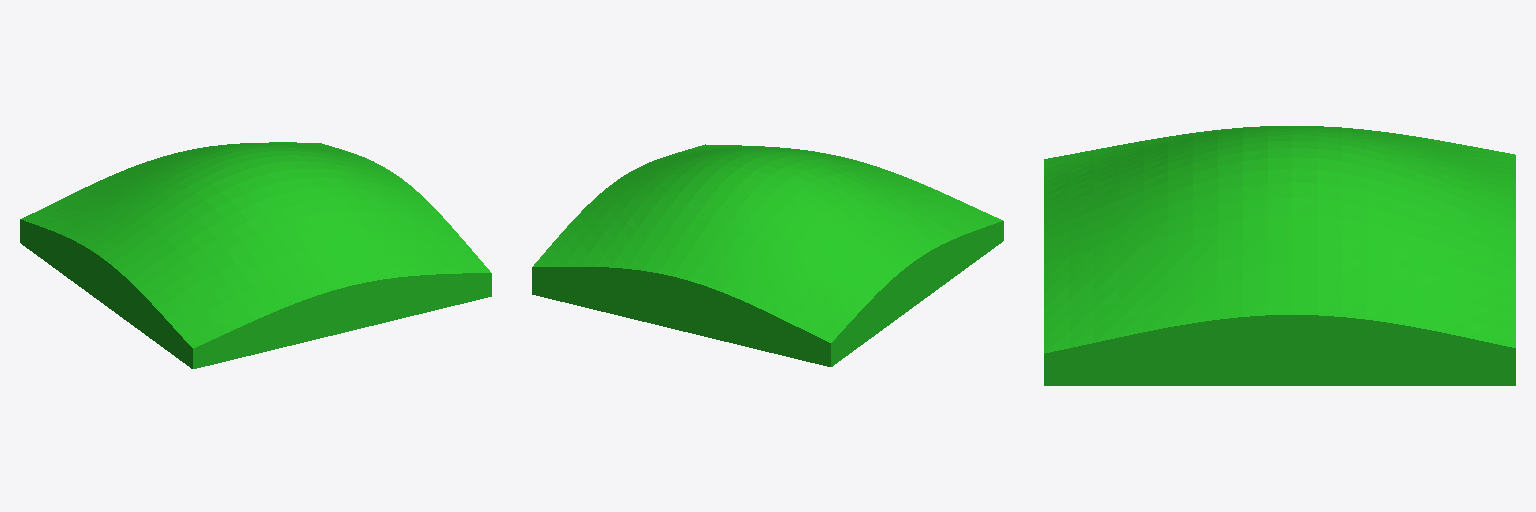
The robot description file, URDF, robot "hill":
<?xml version="1.0" ?>
<robot name="hill">
  <link name="hill_link">

    <inertial>
      <origin xyz="0 0 0" rpy="0 0 0"/>
      <mass value="1"/>
      <inertia
        ixx="1"
        ixy="0"
        ixz="0"
        iyy="1"
        iyz="0"
        izz="1"/>
    </inertial>

    <visual>
      <geometry>
        <mesh filename="hill.obj" scale="1 1 1"/>
      </geometry>
      <material name="green">
        <color rgba="0.2 0.8 0.2 1"/>
      </material>
    </visual>

    <collision>
      <geometry>
        <mesh filename="hill.obj" scale="1 1 1"/>
      </geometry>
    </collision>

  </link>
</robot>

--- Facts derived from the render (not from the file) ---
The picture shows the robot from 3 angles, left to right: view 1: azimuth 30°, elevation 25°; view 2: azimuth 150°, elevation 25°; view 3: azimuth 270°, elevation 25°; orthographic projection.
Model hill with 1 links and 0 joints (none), rooted at hill_link, posed every joint at zero.
Visible links, largest first — view 1: hill_link; view 2: hill_link; view 3: hill_link.
Link boxes in pixels (box(x1,y1,x2,y2)): hill_link: box(20, 142, 491, 368); hill_link: box(532, 144, 1003, 366); hill_link: box(1044, 126, 1515, 385).
Bounding box of the posed robot: 9.5 × 9.5 × 3 m (x, y, z).
Meshes: 1 distinct files referenced, 1 mesh visuals loaded (1 OBJ).
